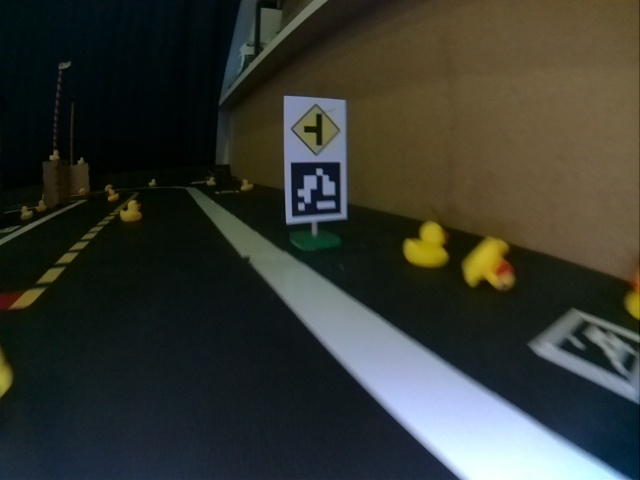Duckie: (463, 239, 514, 291), (404, 222, 448, 266), (121, 201, 141, 220), (242, 180, 250, 190)
Intersection sign: (289, 99, 342, 156)
QR code: (537, 310, 637, 398), (287, 162, 345, 219)
